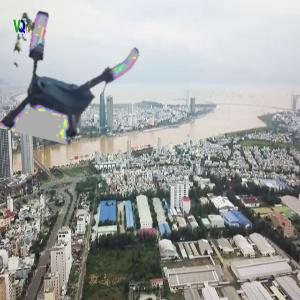drone: (9, 15, 140, 146)
